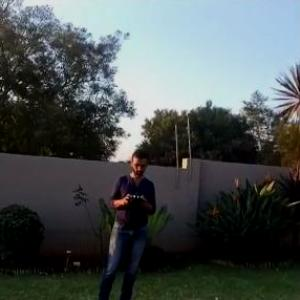follow: (84, 145, 159, 299)
